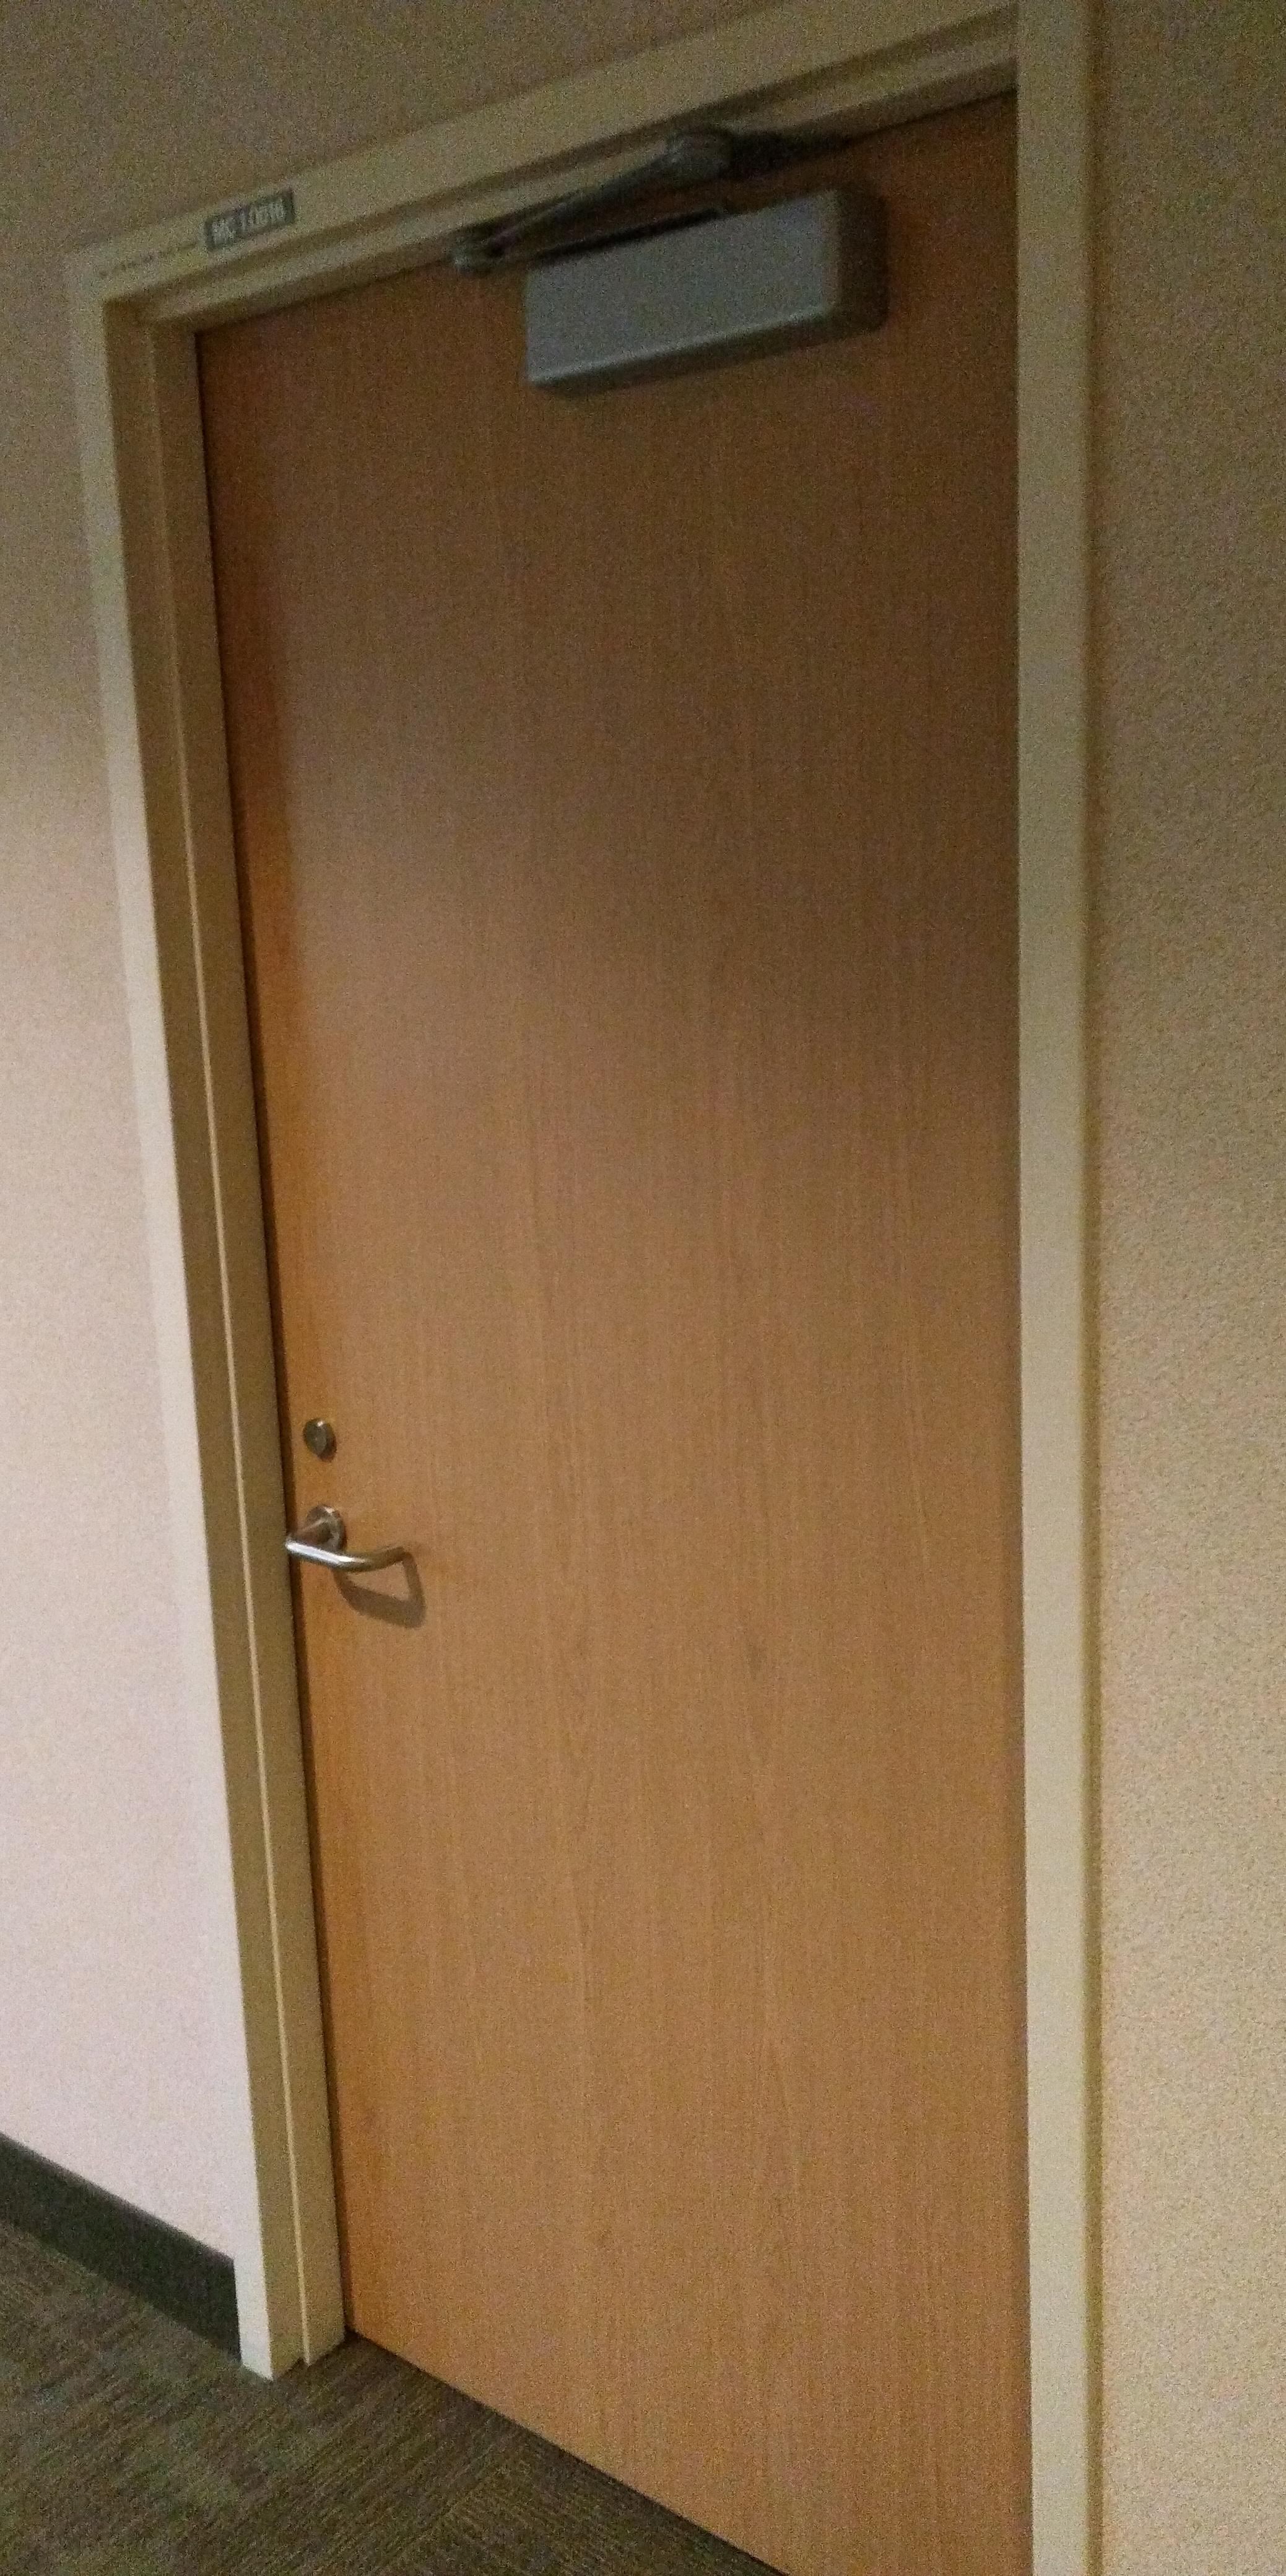door: (266, 43, 1056, 2537)
